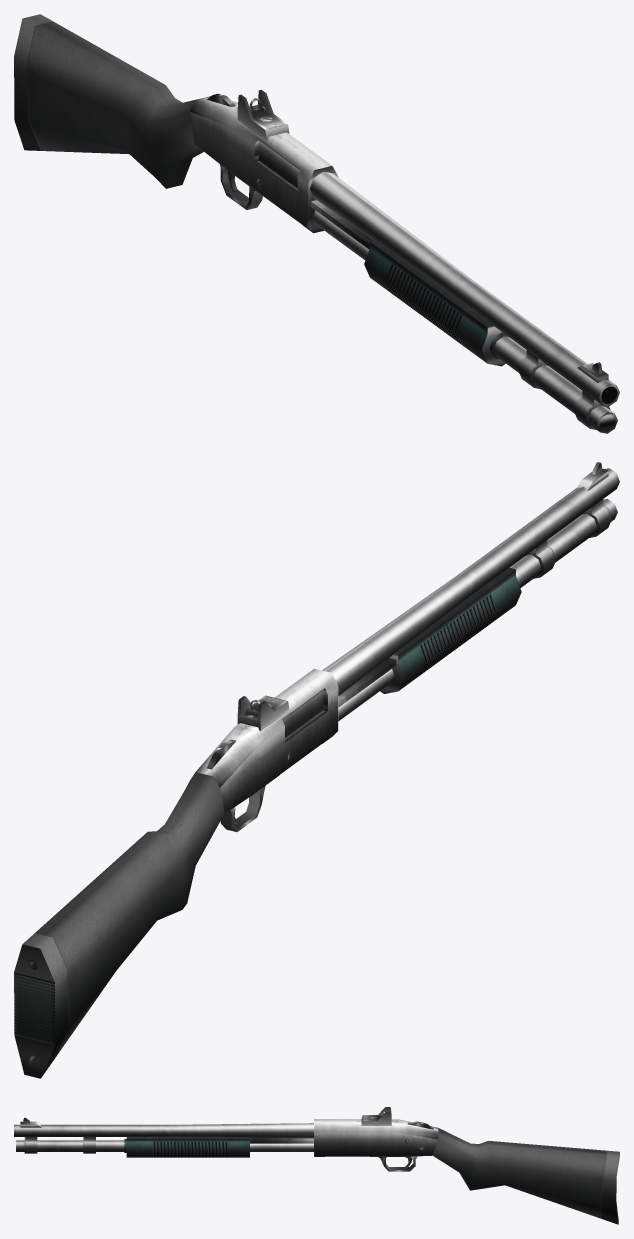
File: Mossberg.fbx
3 renders of one model, top to bottom at view 1: azimuth 30°, elevation 25°; view 2: azimuth 150°, elevation 25°; view 3: azimuth 270°, elevation 25°, orthographic. The views are drawn at different scales.
Parts seen in each view (by area): view 1: mqo_mesh; view 2: mqo_mesh; view 3: mqo_mesh.
Boxes of the visible parts, box(x1,y1,x2,y2) form: mqo_mesh: box(14, 14, 619, 433); mqo_mesh: box(14, 462, 619, 1078); mqo_mesh: box(14, 1107, 619, 1224).
Size of the model in its own units: 47.21 by 237 by 1154.
